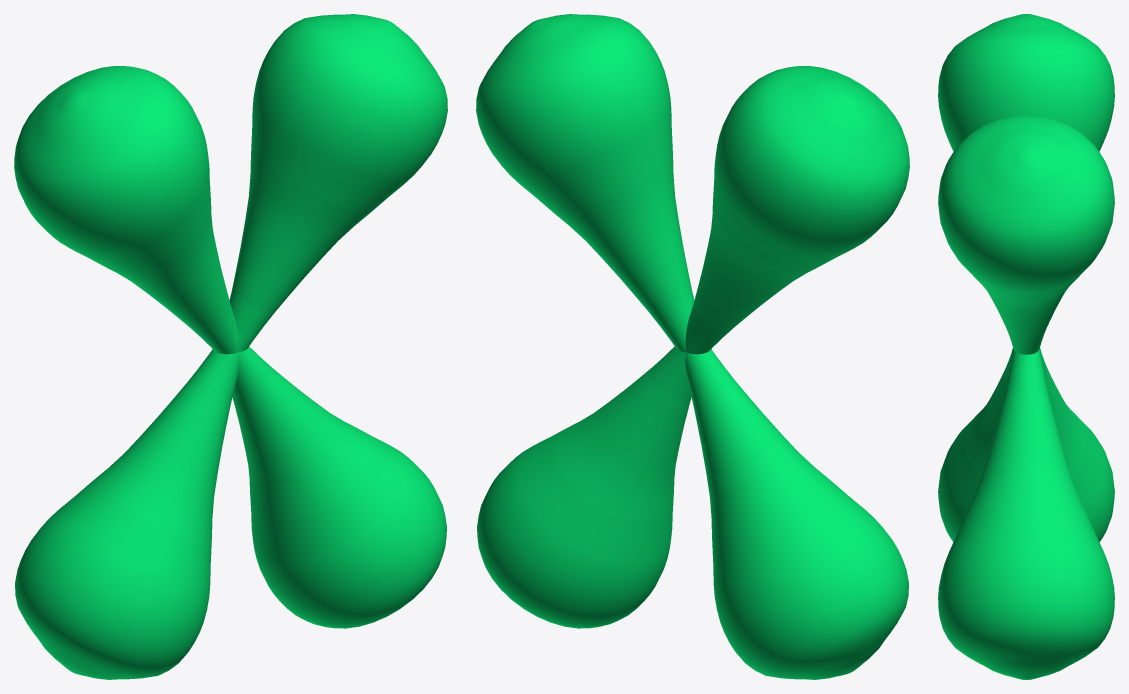
File: orbital_F_3.fbx
3 views of the same model, side by side, from view 1: azimuth 30°, elevation 25°; view 2: azimuth 150°, elevation 25°; view 3: azimuth 270°, elevation 25° (orthographic). The views are drawn at different scales.
Visible parts, largest first — view 1: Torus; view 2: Torus; view 3: Torus.
Boxes of the visible parts, x1,y1,x2,y2 form: Torus: (14,14,447,679); Torus: (476,14,909,679); Torus: (938,14,1114,679).
Size of the model in its own units: 9.71 by 13.48 by 3.99.
